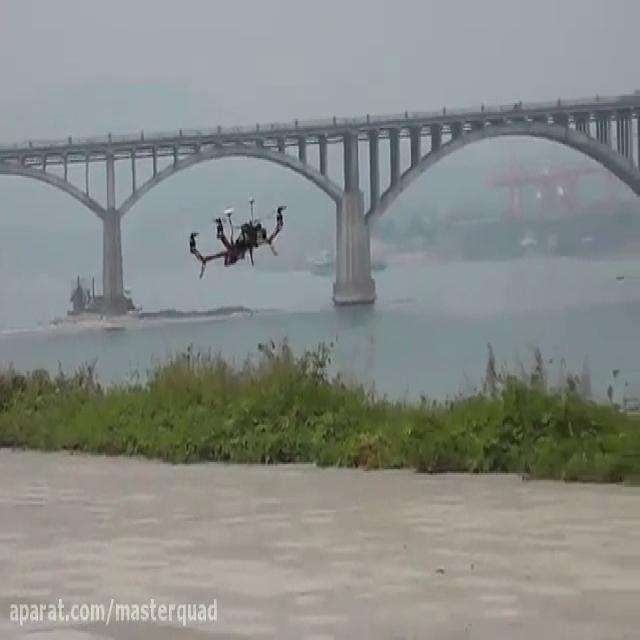drone: (186, 188, 293, 281)
